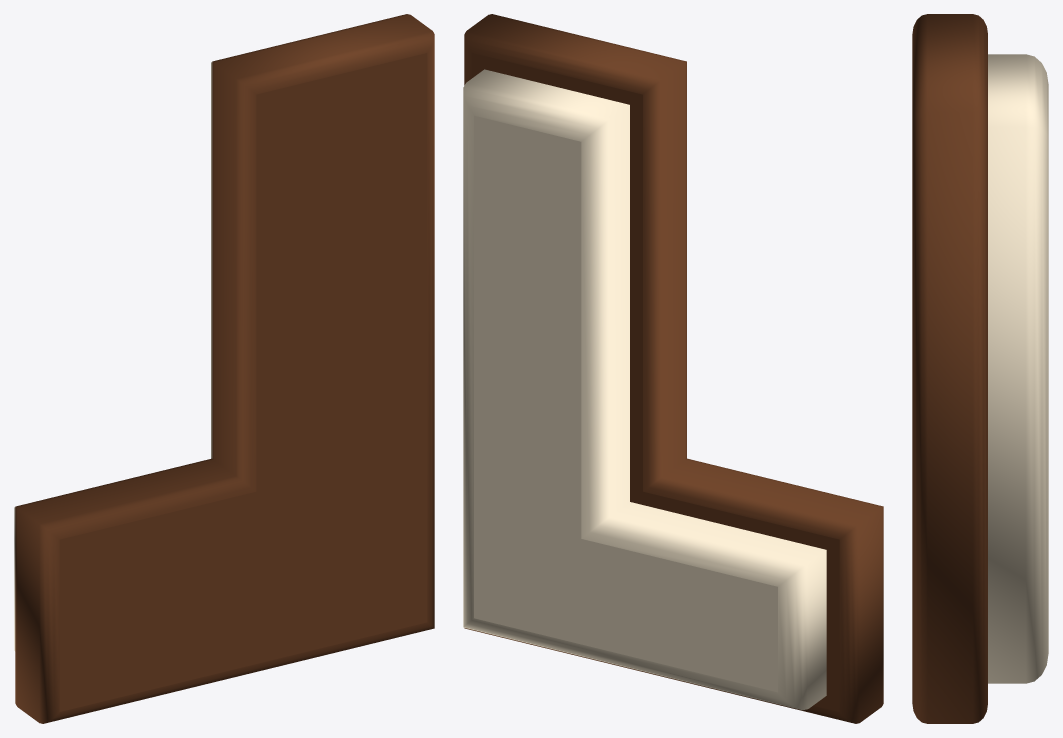
The model's file is Letter_L.fbx.
3 renders of one model, left to right at view 1: azimuth 30°, elevation 25°; view 2: azimuth 150°, elevation 25°; view 3: azimuth 270°, elevation 25°, orthographic. The views are drawn at different scales.
Visible parts, largest first — view 1: Letter_L; view 2: Letter_L; view 3: Letter_L.
Boxes of the visible parts, x1,y1,x2,y2 form: Letter_L: [14, 14, 434, 723]; Letter_L: [463, 14, 883, 723]; Letter_L: [912, 14, 1048, 723].
Bounding box in the file's own units: 0.616 × 0.892 × 0.18.
Materials: 1 (1 with a texture image).
